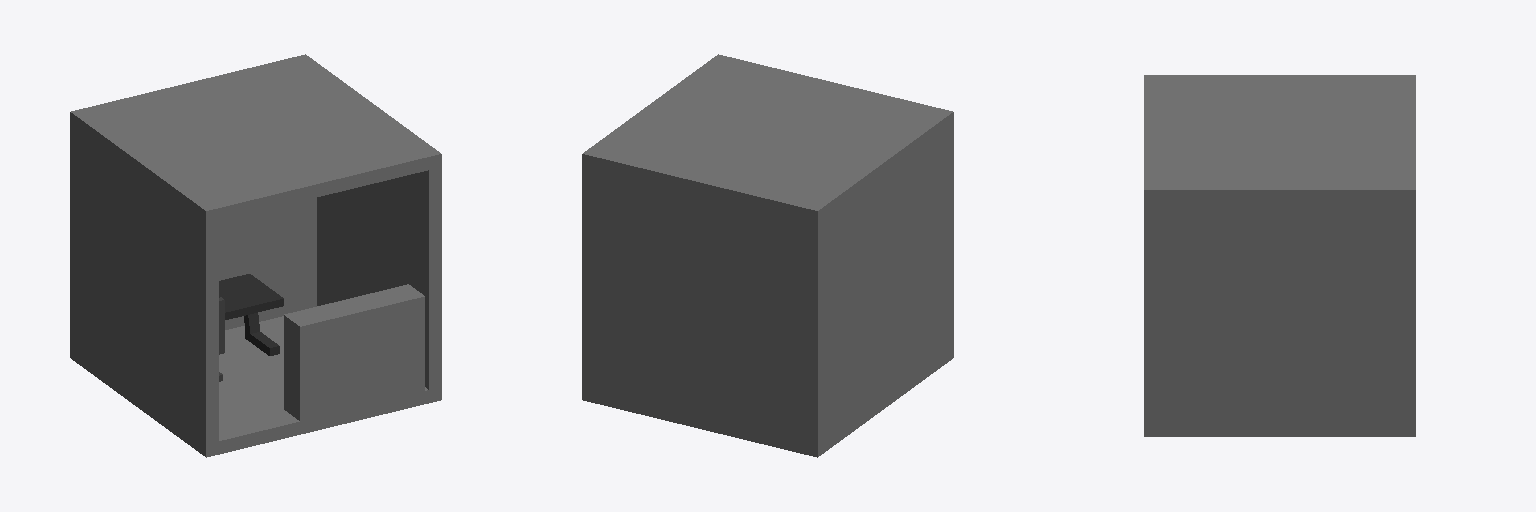
The model's file is cubicle.obj.
The picture shows the model from 3 angles: view 1: azimuth 30°, elevation 25°; view 2: azimuth 150°, elevation 25°; view 3: azimuth 270°, elevation 25°; orthographic projection.
Parts seen in each view (by area): view 1: walls, table; view 2: walls; view 3: walls.
Part boxes in pixels (x1,y1,x2,y2): walls: (70, 54, 441, 457); table: (219, 274, 283, 355); walls: (582, 54, 953, 457); walls: (1144, 75, 1415, 436).
Size of the model in its own units: 2 by 2 by 2.